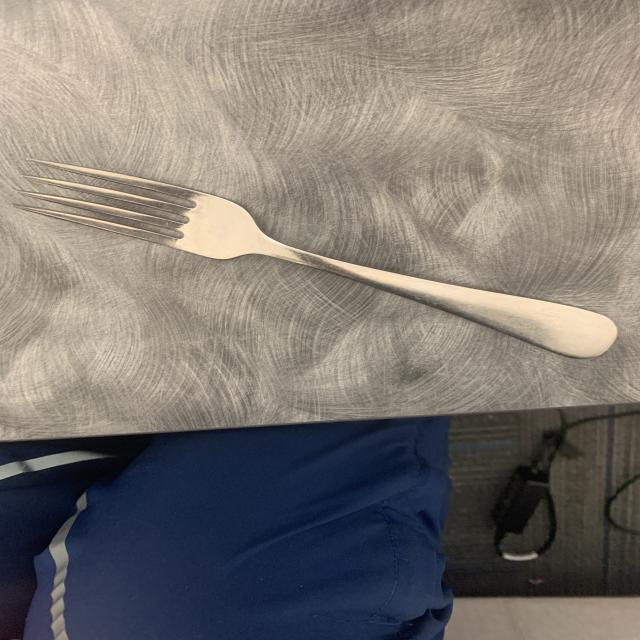fork: (13, 148, 640, 394)
